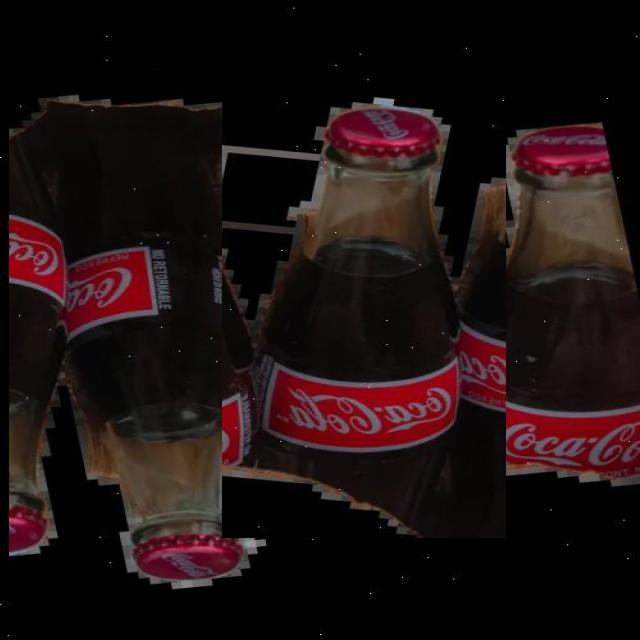coca-cola: (9, 71, 326, 592), (222, 93, 506, 538), (429, 108, 640, 497)
